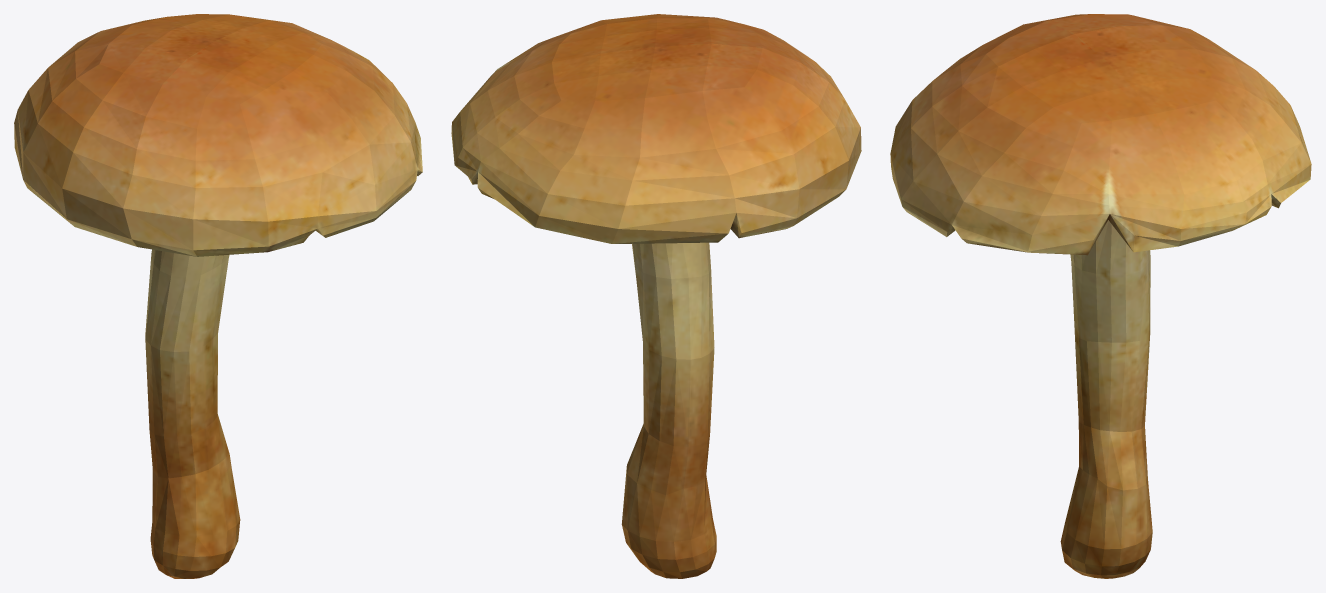
The model's file is P_Chashugu_01.obj.
3 views of the same model, side by side, from view 1: azimuth 30°, elevation 25°; view 2: azimuth 150°, elevation 25°; view 3: azimuth 270°, elevation 25° (orthographic).
Bounding box in the file's own units: 0.1766 × 0.2584 × 0.1852.
Materials: 1 (1 with a texture image).
